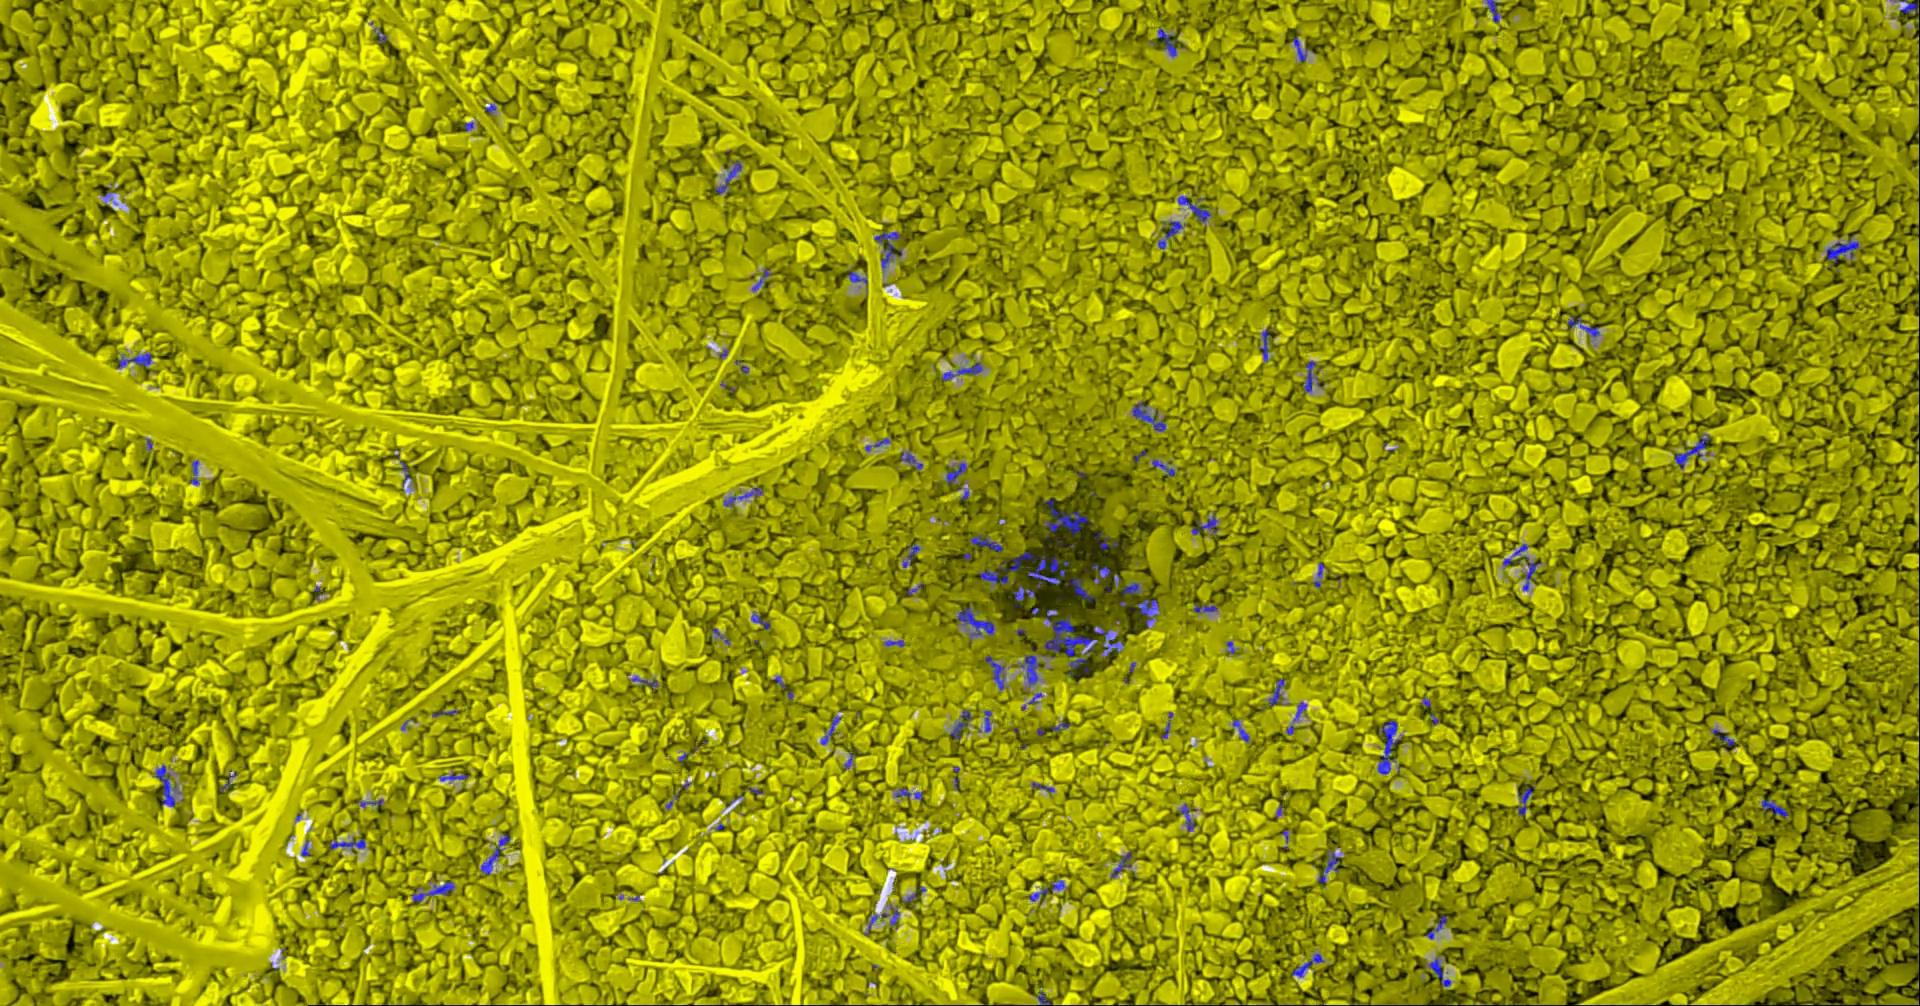ant: (1045, 497, 1095, 535), (483, 833, 512, 874), (1675, 434, 1710, 467), (1379, 720, 1401, 774), (959, 606, 996, 635), (876, 231, 903, 269), (1133, 401, 1167, 431), (1095, 625, 1125, 655), (716, 160, 743, 194), (156, 763, 177, 807), (411, 880, 455, 901), (1829, 235, 1860, 262), (1178, 196, 1211, 221), (1131, 598, 1161, 626), (1425, 956, 1451, 986), (1293, 953, 1324, 977), (725, 486, 764, 506), (1570, 314, 1601, 337), (943, 362, 984, 380), (1030, 880, 1065, 901), (1319, 850, 1341, 883), (1159, 221, 1186, 248), (1022, 654, 1046, 683), (951, 709, 971, 741), (1192, 511, 1220, 533), (985, 655, 1004, 688), (1517, 782, 1537, 815), (1524, 556, 1542, 589), (971, 535, 1004, 551), (1159, 28, 1178, 56), (1763, 798, 1790, 817), (1095, 531, 1124, 549), (1112, 851, 1133, 876), (1305, 359, 1321, 392), (1015, 584, 1036, 607), (1427, 915, 1449, 937), (119, 353, 152, 367), (1270, 678, 1286, 705), (1181, 803, 1196, 831), (1293, 36, 1309, 61), (947, 462, 968, 483), (1093, 563, 1112, 584), (1153, 459, 1176, 476), (904, 542, 921, 567), (1713, 729, 1737, 746), (902, 452, 924, 469), (330, 838, 367, 848), (1900, 0, 1920, 17), (1234, 719, 1250, 741), (897, 788, 924, 799), (752, 612, 771, 629), (1488, 0, 1501, 22), (1261, 329, 1270, 359), (1316, 561, 1326, 587), (980, 710, 993, 730), (190, 460, 201, 484), (850, 271, 869, 283), (1123, 582, 1142, 594), (1195, 603, 1219, 612), (1037, 991, 1053, 1005), (439, 774, 470, 780), (891, 906, 902, 925)
